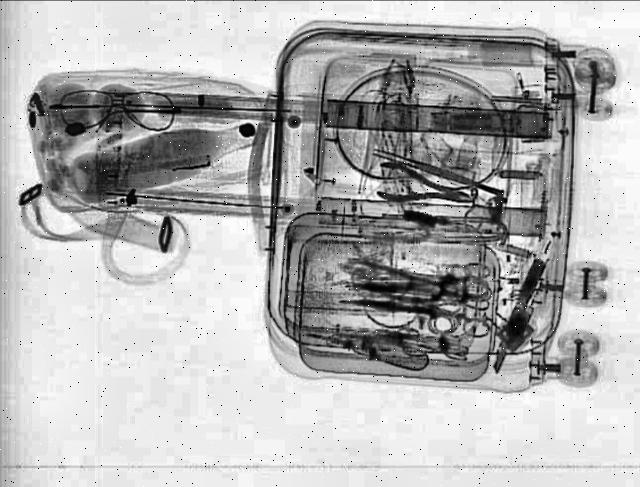Pliers: (364, 161, 476, 217)
